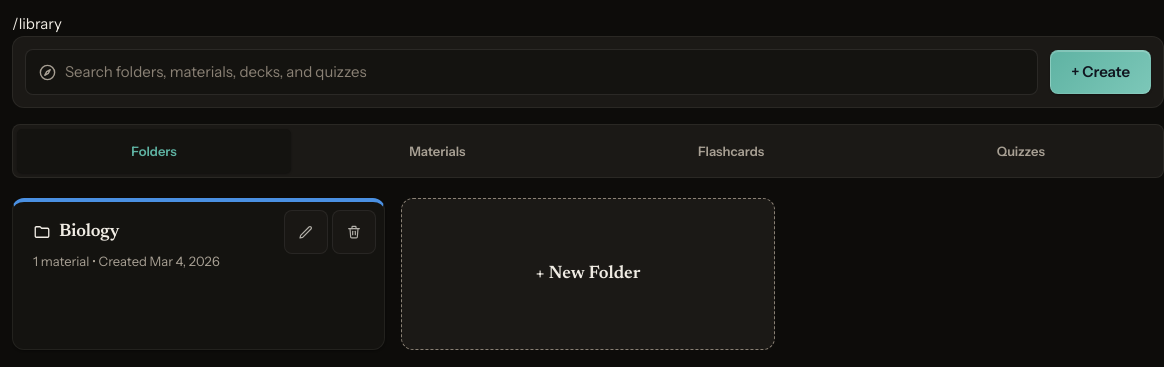
LibraryView shell › switches tab and URL on click, mounting only that tab's panel
Expected: the heading "Biology" is shown, x1=33 y1=222 x2=119 y2=243
What coordinates should you click on to do the following:
click the tab "Materials"
I would click on:
 (437, 151)
Its box is x1=295 y1=129 x2=580 y2=173.
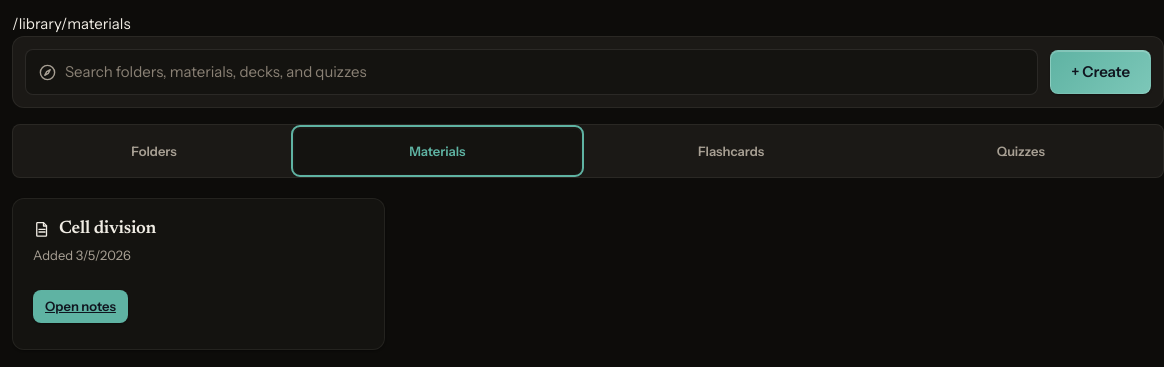
Now the heading "Cell division" is shown, box x1=33 y1=219 x2=156 y2=240
Now the text with test id "path" reads "/library/materials", box x1=12 y1=14 x2=130 y2=33
Now the link "Biology" is gone
